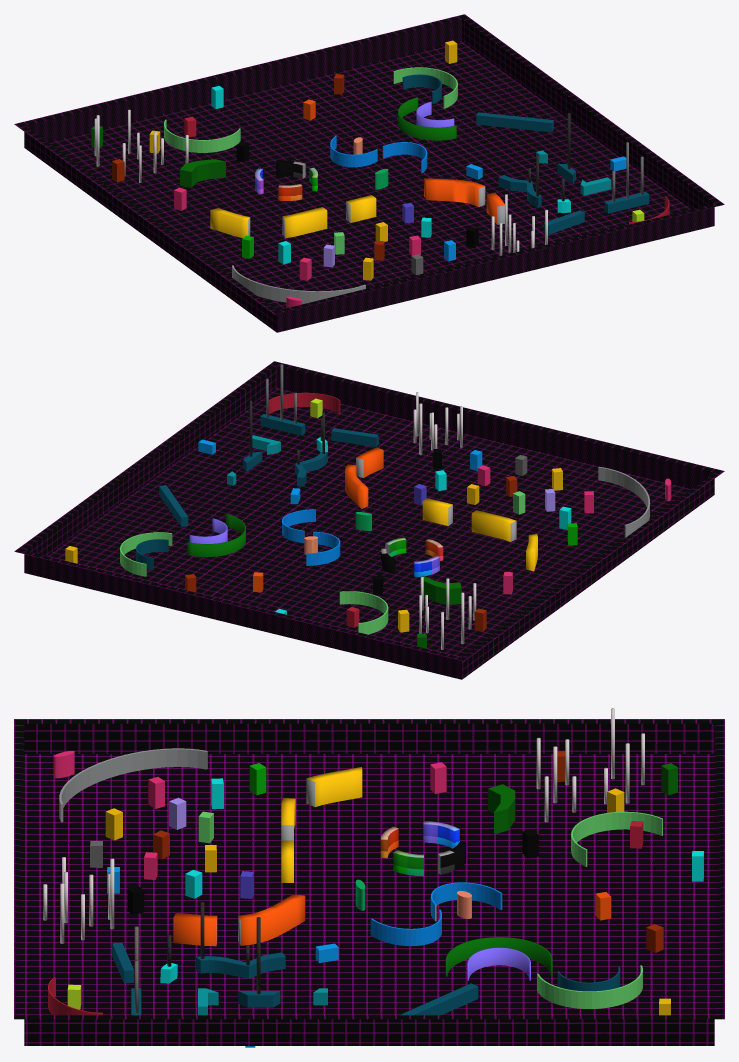
File: partycity.glb
3 renders of one model, top to bottom at view 1: azimuth 30°, elevation 25°; view 2: azimuth 150°, elevation 25°; view 3: azimuth 270°, elevation 25°, orthographic. The views are drawn at different scales.
Visible parts, largest first — view 1: floor, walls, city; view 2: floor, walls, city; view 3: floor, walls, city.
Boxes of the visible parts, box(x1,y1,x2,y2) form: floor: box(47, 41, 691, 310); walls: box(14, 14, 724, 332); city: box(91, 40, 669, 308); floor: box(47, 388, 691, 657); walls: box(14, 361, 724, 679); city: box(65, 364, 671, 649); floor: box(24, 754, 714, 1015); walls: box(14, 719, 724, 1045); city: box(43, 708, 703, 1047).
Bounding box in the file's own units: 2060 × 306 × 2060.
3 materials, 3 textured.
